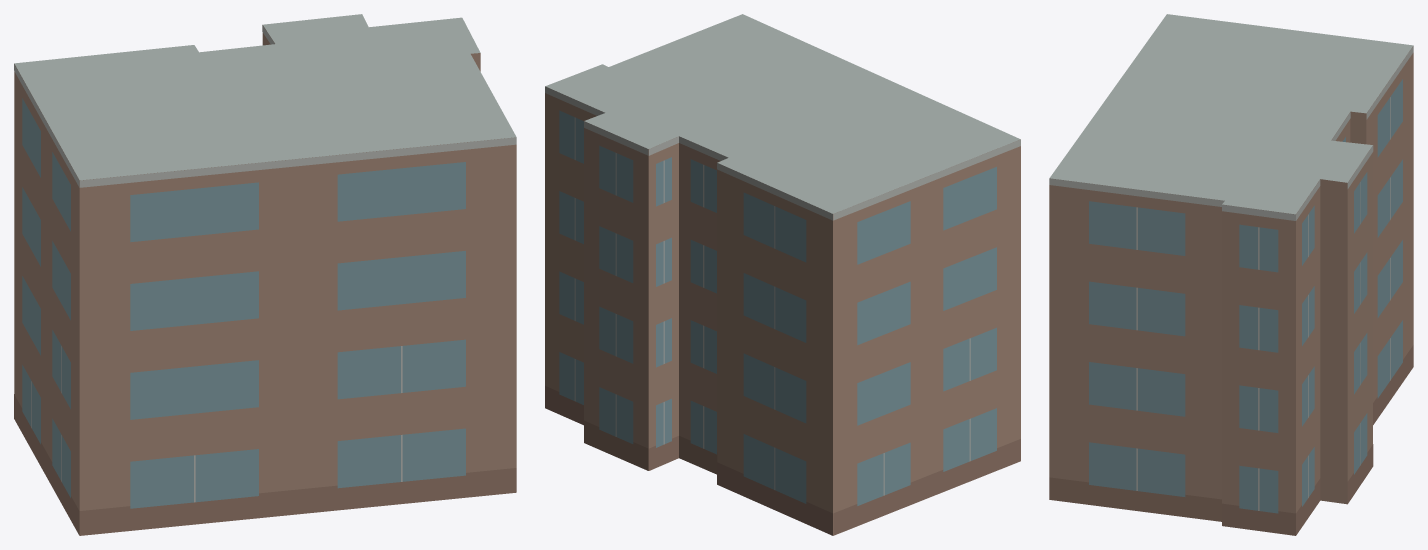
The model's file is survey-upis-32880565.glb.
3 renders of one model, left to right at view 1: azimuth 30°, elevation 25°; view 2: azimuth 150°, elevation 25°; view 3: azimuth 270°, elevation 25°, orthographic. The views are drawn at different scales.
Visible parts, largest first — view 1: survey-upis-32880565.tmp; view 2: survey-upis-32880565.tmp; view 3: survey-upis-32880565.tmp.
Boxes of the visible parts, x1,y1,x2,y2 form: survey-upis-32880565.tmp: (14,14,516,535); survey-upis-32880565.tmp: (545,14,1020,535); survey-upis-32880565.tmp: (1049,14,1413,535).
Size of the model in its own units: 15.65 by 11.7 by 12.02.
